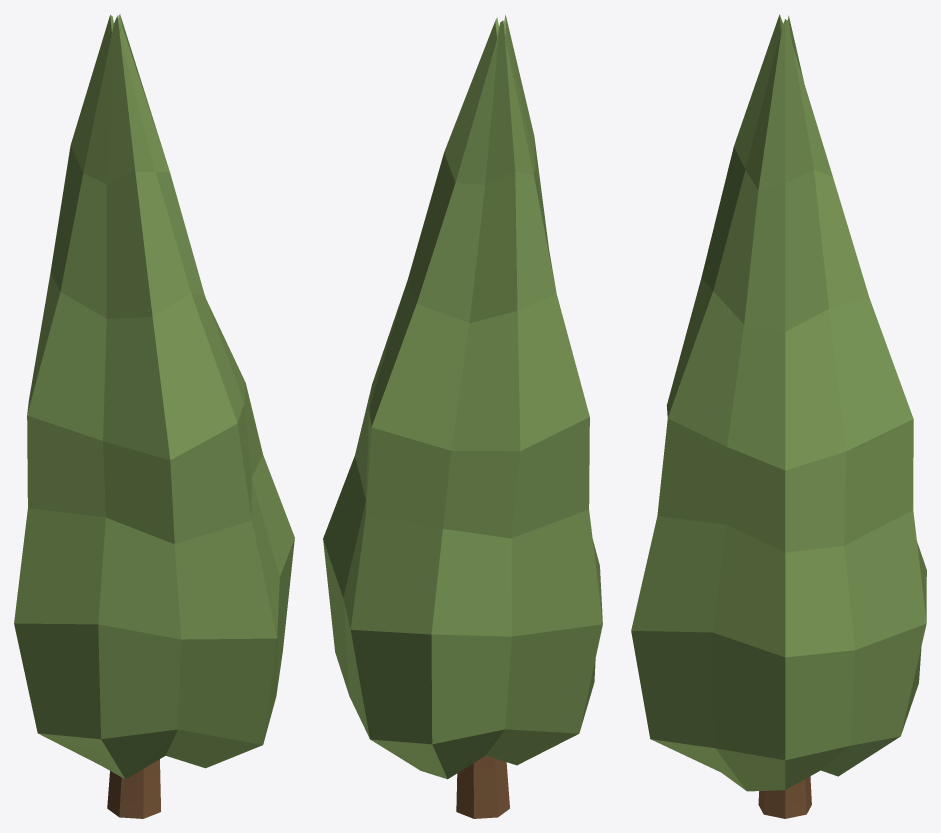
File: cypress-sculpt-1.glb
The picture shows the model from 3 angles, left to right: view 1: azimuth 30°, elevation 25°; view 2: azimuth 150°, elevation 25°; view 3: azimuth 270°, elevation 25°; orthographic projection. The views are drawn at different scales.
Visible parts, largest first — view 1: Cypress, Branch; view 2: Cypress, Branch; view 3: Cypress, Branch.
Part boxes in pixels (<box>): Cypress: <box>14,14,294,779</box>; Branch: <box>107,759,160,818</box>; Cypress: <box>323,14,602,779</box>; Branch: <box>456,755,509,818</box>; Cypress: <box>631,14,926,791</box>; Branch: <box>758,776,811,818</box>.
Bounding box in the file's own units: 0.6144 × 1.67 × 0.5715.
